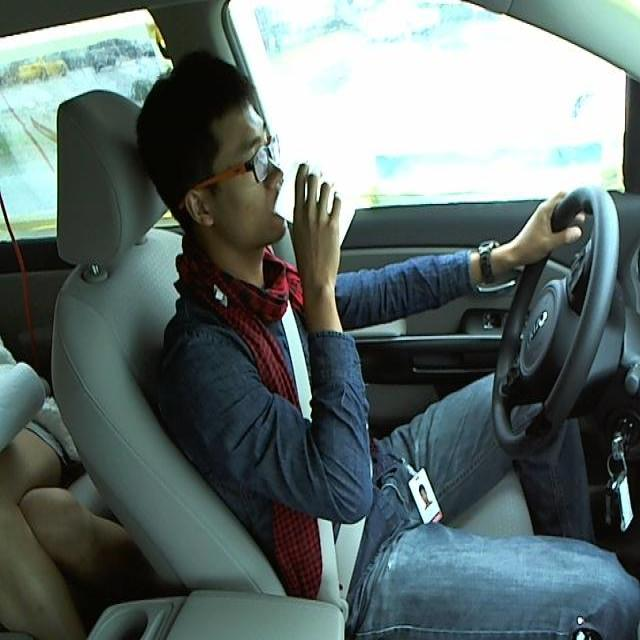Seatbelt: (273, 160, 356, 244)
